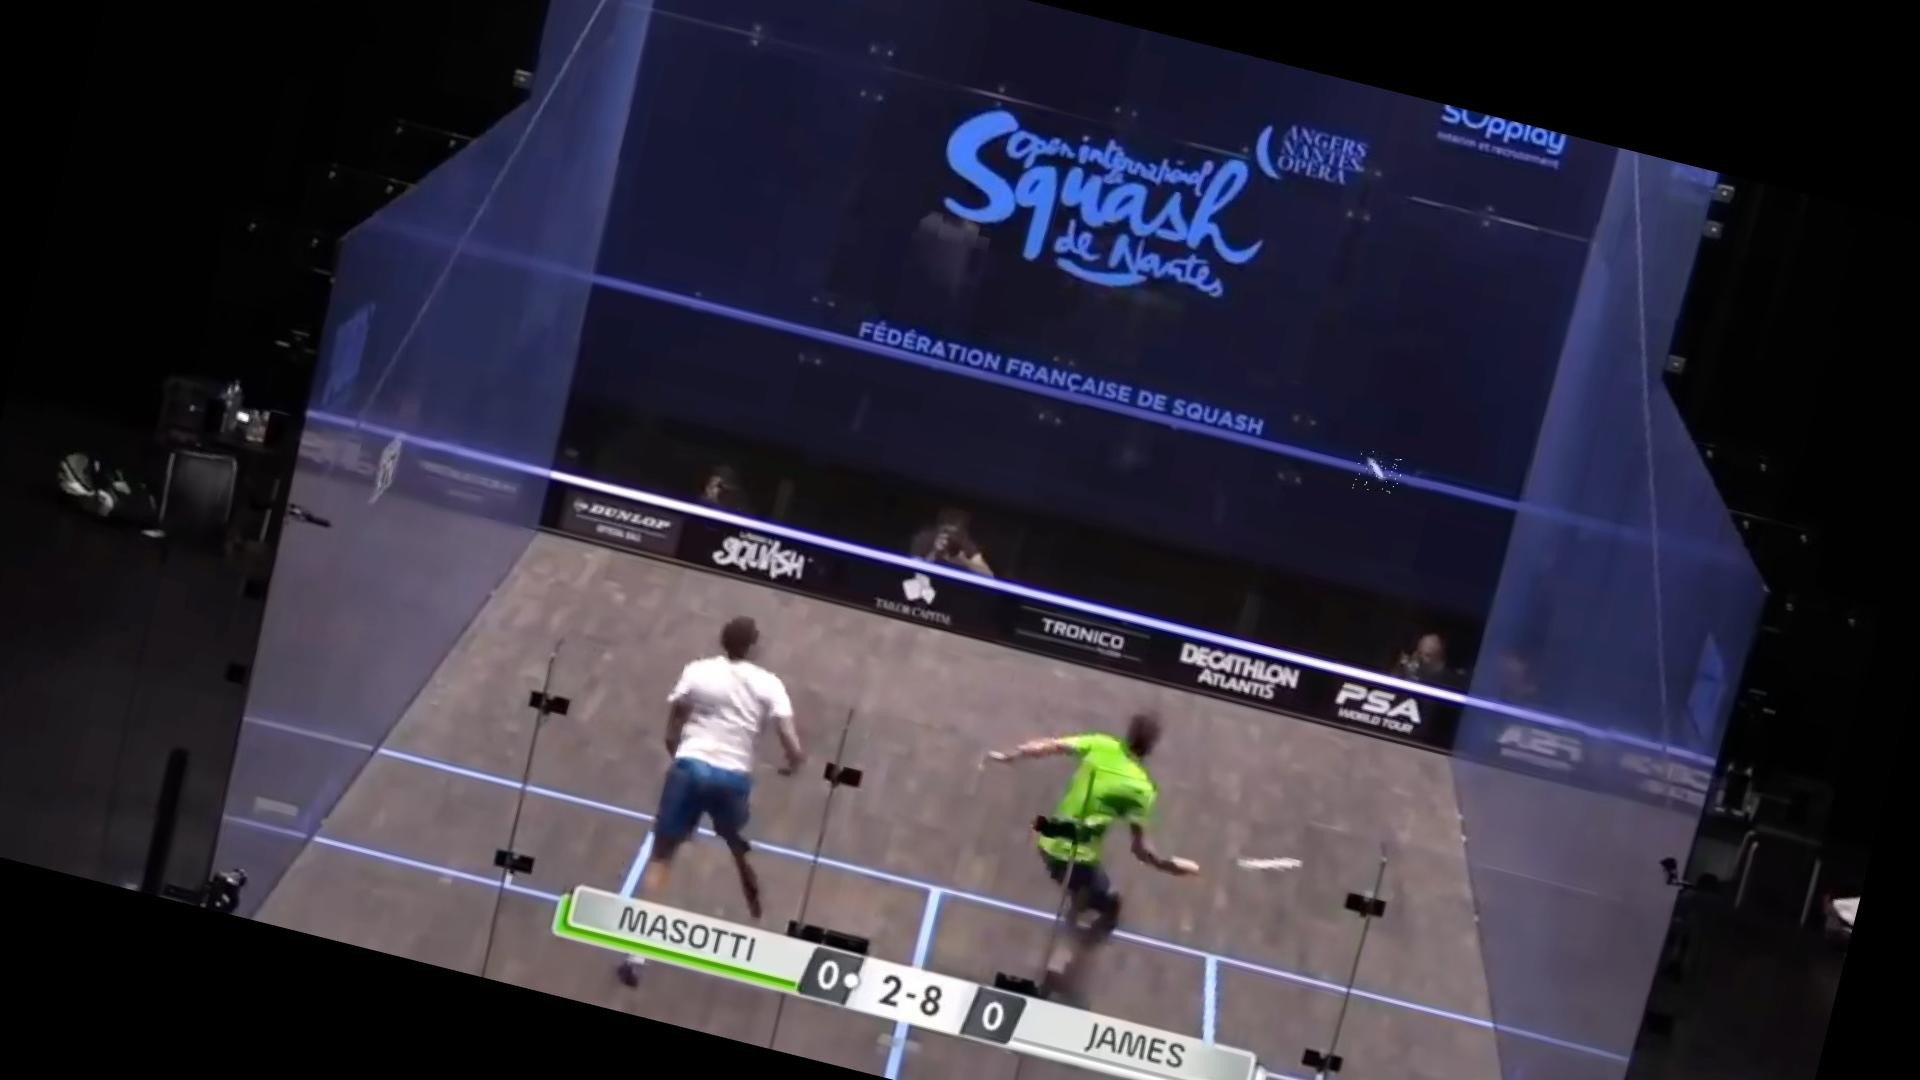Squash-Ball: (1352, 447, 1404, 498)
